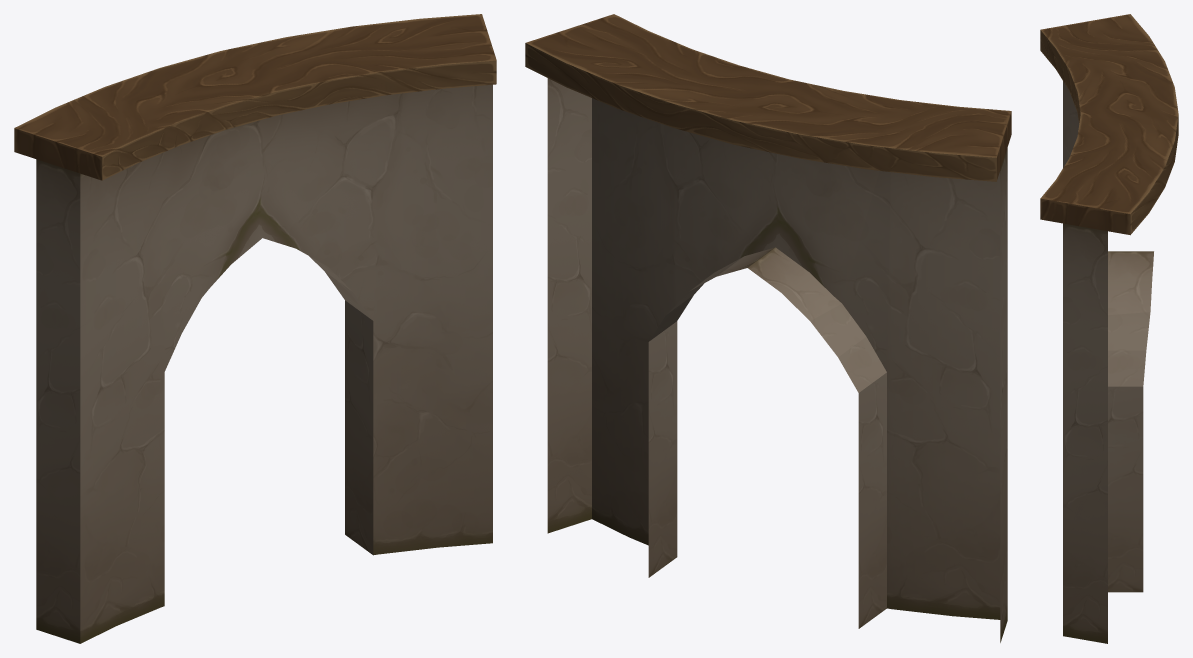
The model's file is Wall_round_4_5.FBX.
3 views of the same model, side by side, from view 1: azimuth 30°, elevation 25°; view 2: azimuth 150°, elevation 25°; view 3: azimuth 270°, elevation 25° (orthographic). The views are drawn at different scales.
Parts seen in each view (by area): view 1: Wall_round_4_5; view 2: Wall_round_4_5; view 3: Wall_round_4_5.
Part boxes in pixels (x1=…): Wall_round_4_5: x1=14, y1=14, x2=496, y2=643; Wall_round_4_5: x1=525, y1=14, x2=1011, y2=642; Wall_round_4_5: x1=1040, y1=14, x2=1178, y2=643.
Bounding box in the file's own units: 3486 × 3520 × 1017.
